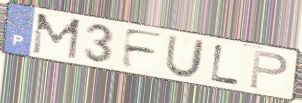3: (83, 23, 117, 65)
F: (119, 26, 167, 71)
L: (209, 42, 242, 87)
M: (30, 12, 83, 62)
P: (247, 48, 290, 91)
U: (163, 34, 207, 79)
